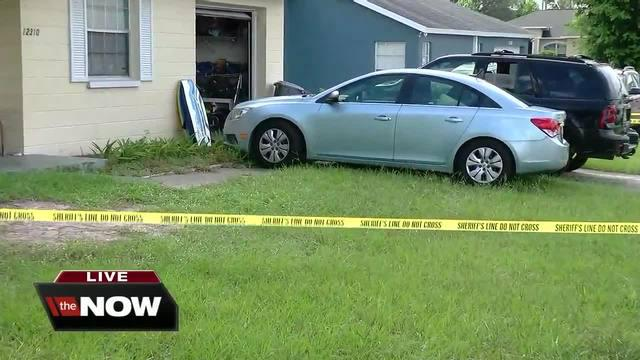car: (213, 61, 588, 191), (423, 44, 634, 163)
